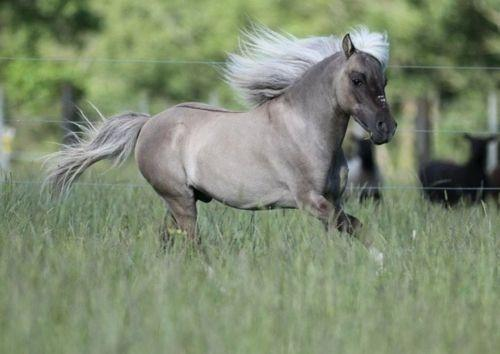horse: (38, 18, 397, 258), (417, 131, 499, 210)
